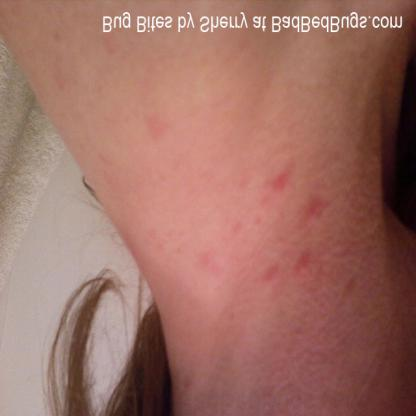Bed Bug: (261, 156, 295, 206), (145, 222, 188, 256), (298, 197, 332, 235), (141, 112, 169, 150), (194, 250, 224, 280), (226, 216, 267, 237), (290, 250, 316, 280), (338, 276, 360, 308), (259, 263, 283, 291), (235, 170, 250, 196), (180, 376, 198, 396)
